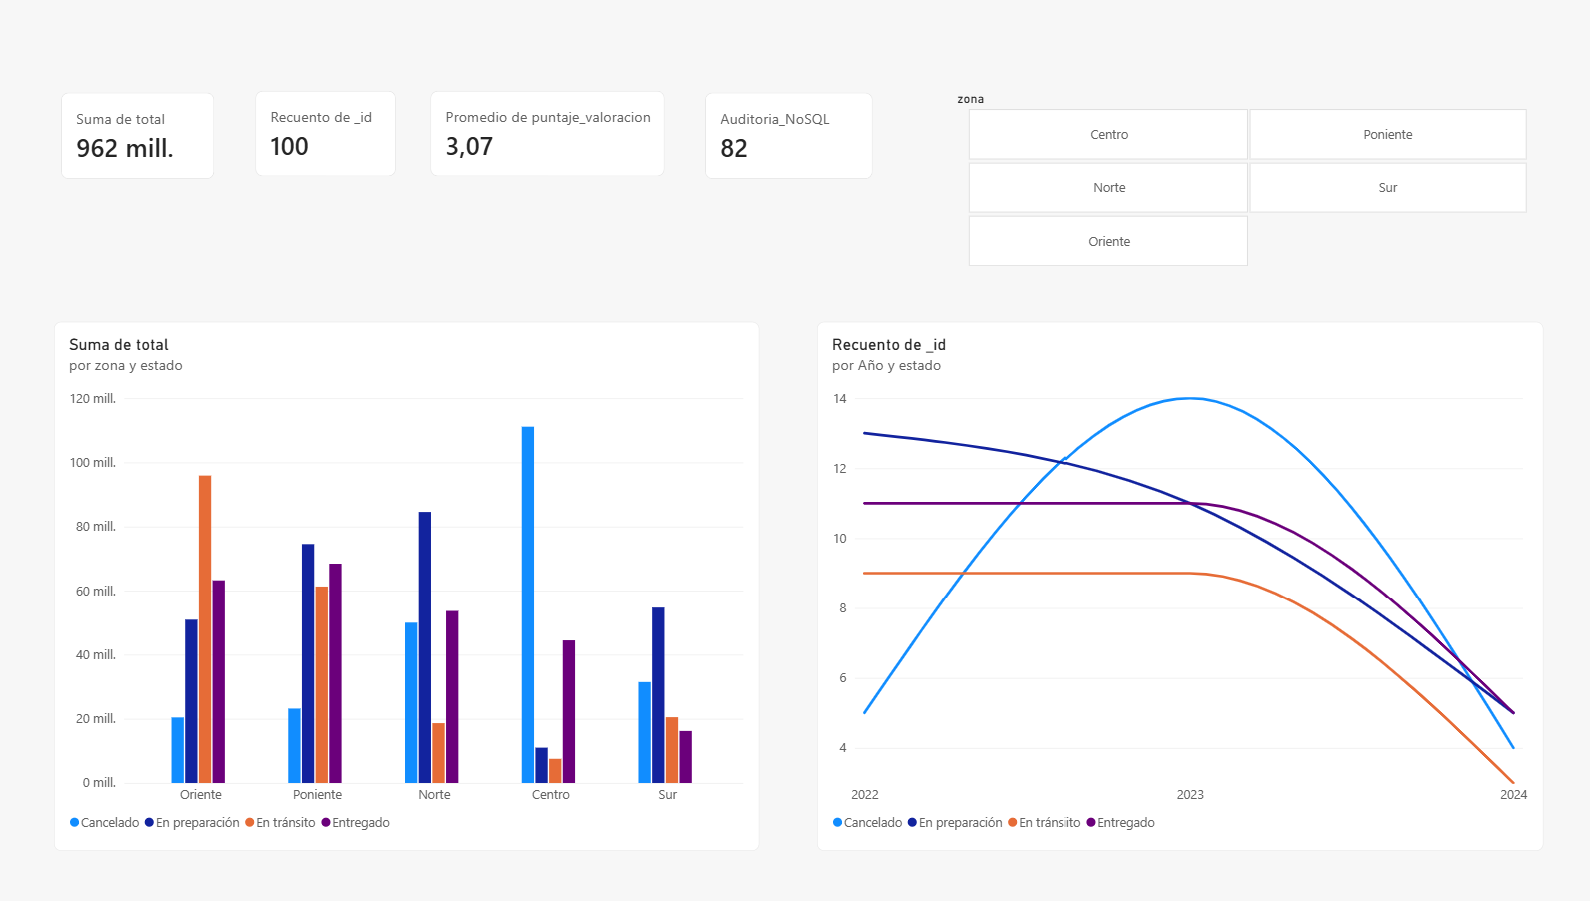

The page's visual inventory and layout, read from the dashboard file:
{"tool":"powerbi","page":{"name":"Página 1","canvas":[1920,1080],"ordinal":0},"visuals":[{"type":"clusteredColumnChart","fields":{"Category":["fact_ordenes_bi.zona"],"Series":["fact_ordenes_bi.estado"],"Y":["Sum(fact_ordenes_bi.total)"]},"box":[178.6,390.1,782.2,588.1],"z":0},{"type":"lineChart","fields":{"Category":["fact_ordenes_bi.mes.Variation.Jerarquía de fechas.Año","fact_ordenes_bi.mes.Variation.Jerarquía de fechas.Trimestre","fact_ordenes_bi.mes.Variation.Jerarquía de fechas.Mes","fact_ordenes_bi.mes.Variation.Jerarquía de fechas.Día"],"Series":["fact_ordenes_bi.estado"],"Y":["CountNonNull(fact_ordenes_bi._id)"]},"box":[1024.8,390.1,803.6,588.1],"z":1},{"type":"cardVisual","fields":{"Data":["Sum(fact_ordenes_bi.total)"]},"box":[186.3,135.3,170.2,96.9],"z":2},{"type":"slicer","fields":{"Values":["fact_ordenes_bi.zona"]},"box":[1172.3,133.9,656,196],"z":3},{"type":"cardVisual","fields":{"Data":["CountNonNull(fact_ordenes_bi._id)"]},"box":[401.8,133.4,156.1,95.9],"z":4},{"type":"cardVisual","fields":{"Data":["Avg(fact_ordenes_bi.puntaje_valoracion)"]},"box":[595.9,133.4,260.9,95.9],"z":5},{"type":"cardVisual","fields":{"Data":["bridge_seguimiento_historial.Auditoria_NoSQL"]},"box":[900.6,135.3,186.9,96.2],"z":7}]}

Visuals, with their boxes in screenshot pixels (x1, y1, x2, y2), scaled from the page's 1920x1080 canvas onto the 1590x901 screenshot:
clusteredColumnChart - fact_ordenes_bi.zona x fact_ordenes_bi.estado: <box>148,325,796,816</box>
lineChart - fact_ordenes_bi.mes.Variation.Jerarquía de fechas.Año x fact_ordenes_bi.mes.Variation.Jerarquía de fechas.Trimestre: <box>849,325,1514,816</box>
cardVisual - Sum(fact_ordenes_bi.total): <box>154,113,295,194</box>
slicer - fact_ordenes_bi.zona: <box>971,112,1514,275</box>
cardVisual - CountNonNull(fact_ordenes_bi._id): <box>333,111,462,191</box>
cardVisual - Avg(fact_ordenes_bi.puntaje_valoracion): <box>493,111,710,191</box>
cardVisual - bridge_seguimiento_historial.Auditoria_NoSQL: <box>746,113,901,193</box>
